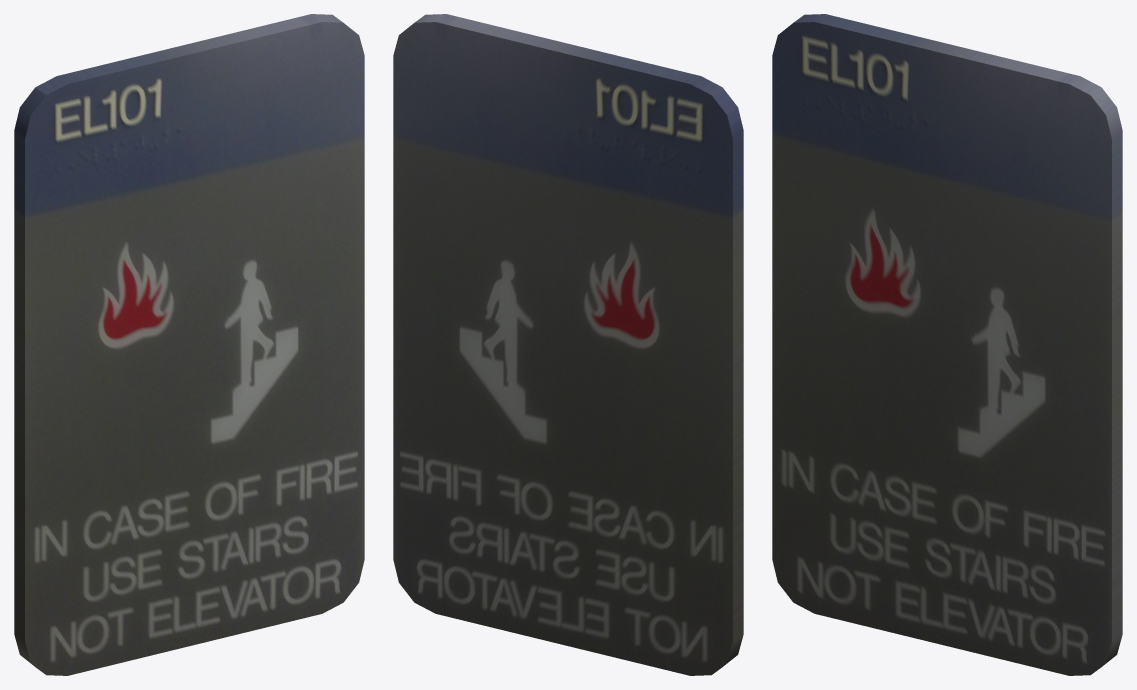
Rendered from fire_elevator_sign.fbx.
3 renders of one model, left to right at view 1: azimuth 30°, elevation 25°; view 2: azimuth 150°, elevation 25°; view 3: azimuth 330°, elevation 25°, orthographic.
Parts seen in each view (by area): view 1: sign; view 2: sign; view 3: sign.
Part boxes in pixels (left/top/right/bottom): sign: left=14, top=14, right=364, bottom=675; sign: left=393, top=14, right=743, bottom=675; sign: left=772, top=14, right=1122, bottom=675.
Size of the model in its own units: 1 by 1.66 by 0.0558.
Materials: 1 (1 with a texture image).
